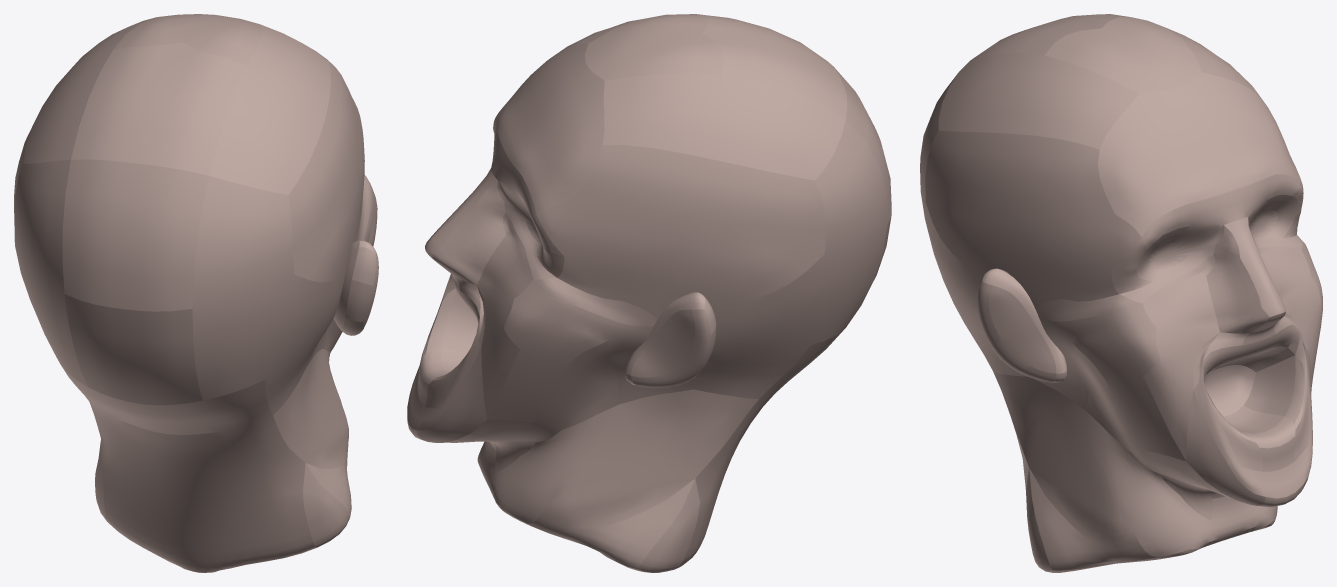
Rendered from jari.fbx.
3 views of the same model, side by side, from view 1: azimuth 30°, elevation 25°; view 2: azimuth 150°, elevation 25°; view 3: azimuth 270°, elevation 25° (orthographic). The views are drawn at different scales.
Visible parts, largest first — view 1: MensBust; view 2: MensBust; view 3: MensBust.
Boxes of the visible parts, x1,y1,x2,y2 form: MensBust: (14, 14, 378, 572); MensBust: (407, 14, 891, 572); MensBust: (920, 14, 1322, 572).
Bounding box in the file's own units: 1170 × 1548 × 1104.
